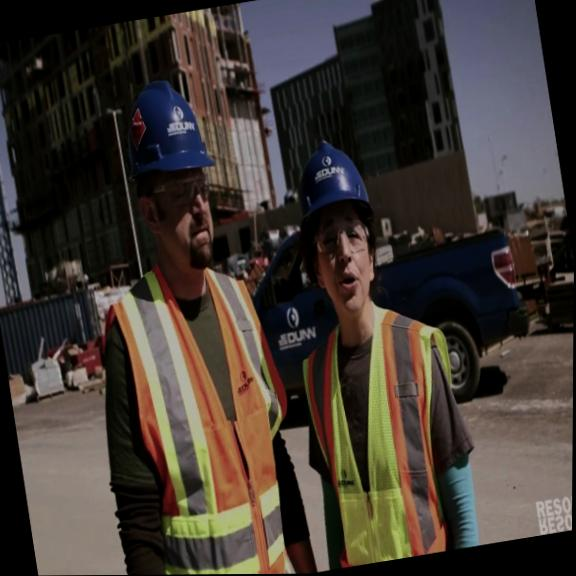safety_vest: (94, 249, 318, 575), (291, 295, 479, 570)
